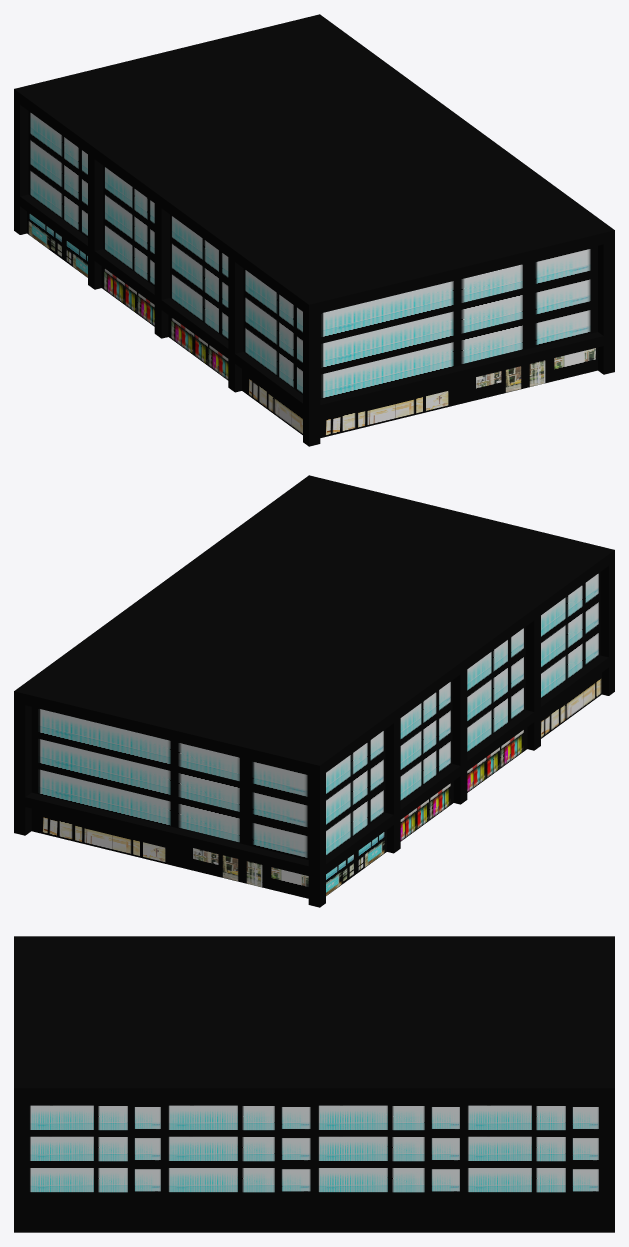
Rendered from building28.FBX.
3 views of the same model, one above another, from view 1: azimuth 30°, elevation 25°; view 2: azimuth 150°, elevation 25°; view 3: azimuth 270°, elevation 25° (orthographic).
Parts seen in each view (by area): view 1: Box001; view 2: Box001; view 3: Box001.
Part boxes in pixels (x1,y1,x2,y2): Box001: (14,14,614,446); Box001: (14,475,614,907); Box001: (14,936,614,1232).
Size of the model in its own units: 57.55 by 25.48 by 96.13.
